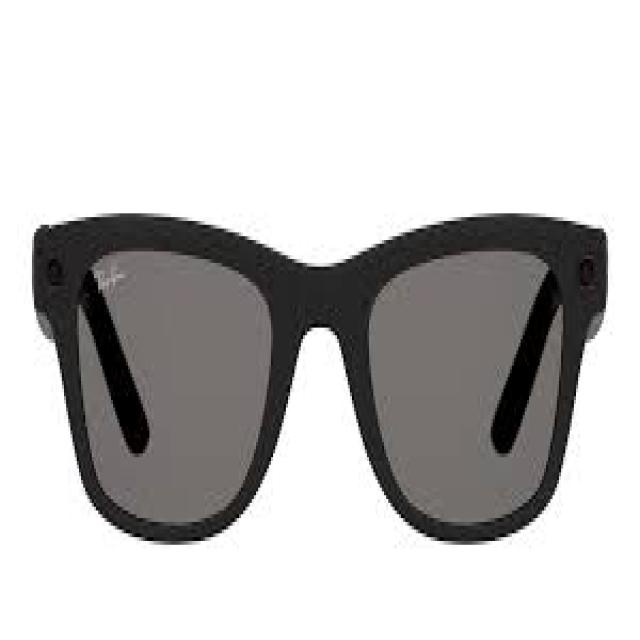sunglasses: (13, 173, 610, 543)
